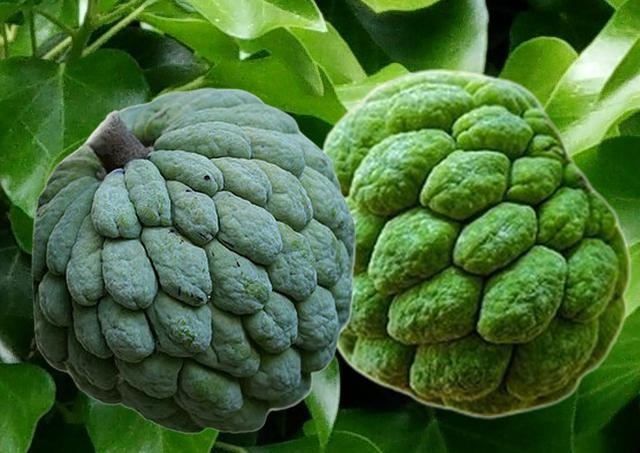atis: (31, 87, 355, 433), (319, 67, 631, 418)
